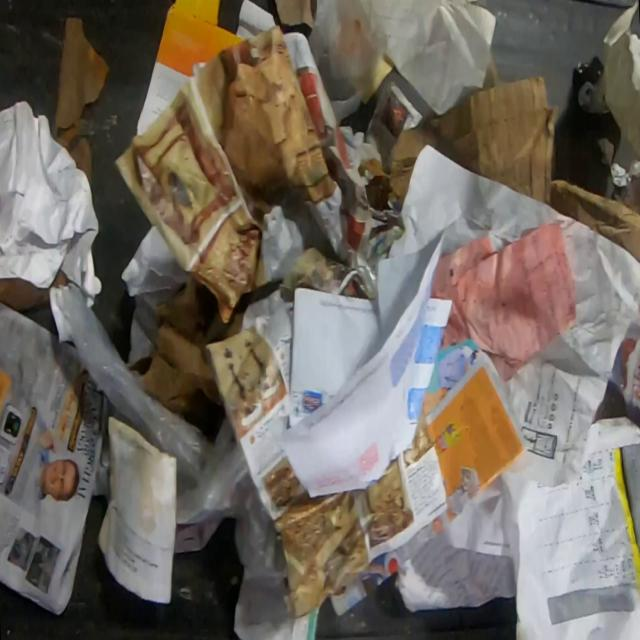cardboard: (387, 55, 640, 265), (127, 270, 244, 413)
soft_plastic: (48, 282, 287, 589)
